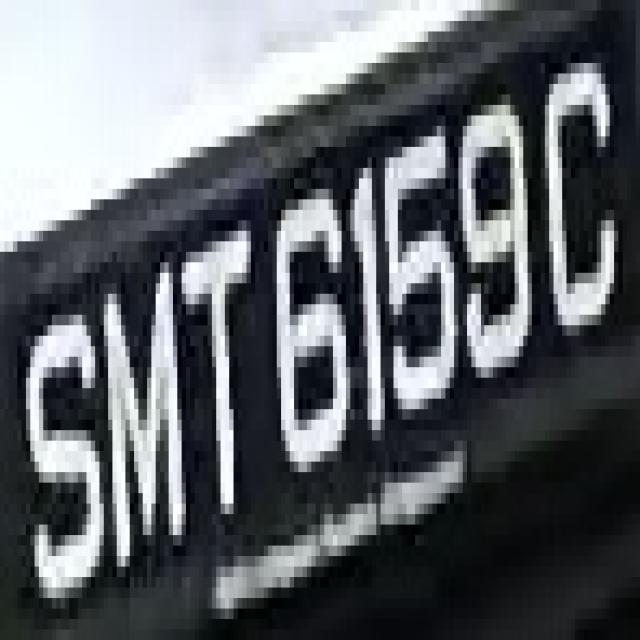1: (342, 116, 389, 472)
5: (381, 94, 458, 462)
6: (264, 178, 354, 493)
9: (450, 74, 536, 409)
C: (536, 63, 618, 367)
M: (95, 252, 190, 577)
S: (22, 262, 104, 619)
T: (173, 220, 264, 546)
